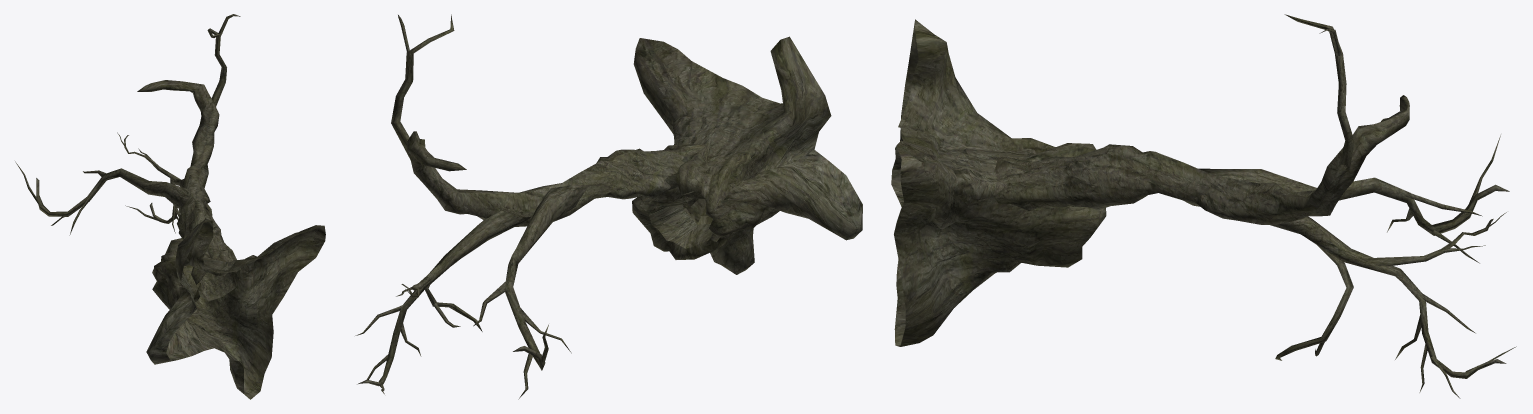
File: TI_Old_Tree_07.fbx
The picture shows the model from 3 angles, left to right: view 1: azimuth 30°, elevation 25°; view 2: azimuth 150°, elevation 25°; view 3: azimuth 270°, elevation 25°; orthographic projection. The views are drawn at different scales.
Parts seen in each view (by area): view 1: TI_Old_Tree_07; view 2: TI_Old_Tree_07; view 3: TI_Old_Tree_07.
Boxes of the visible parts, x1,y1,x2,y2 form: TI_Old_Tree_07: (15,14,325,399); TI_Old_Tree_07: (355,14,862,399); TI_Old_Tree_07: (891,14,1516,398).
Bounding box in the file's own units: 4.4 × 5 × 6.94.
